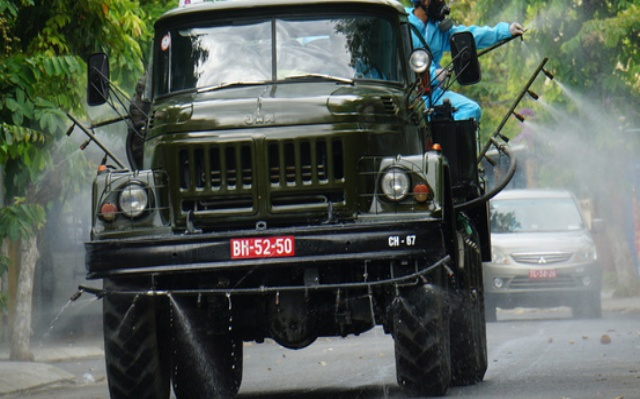plate: (229, 235, 294, 256)
